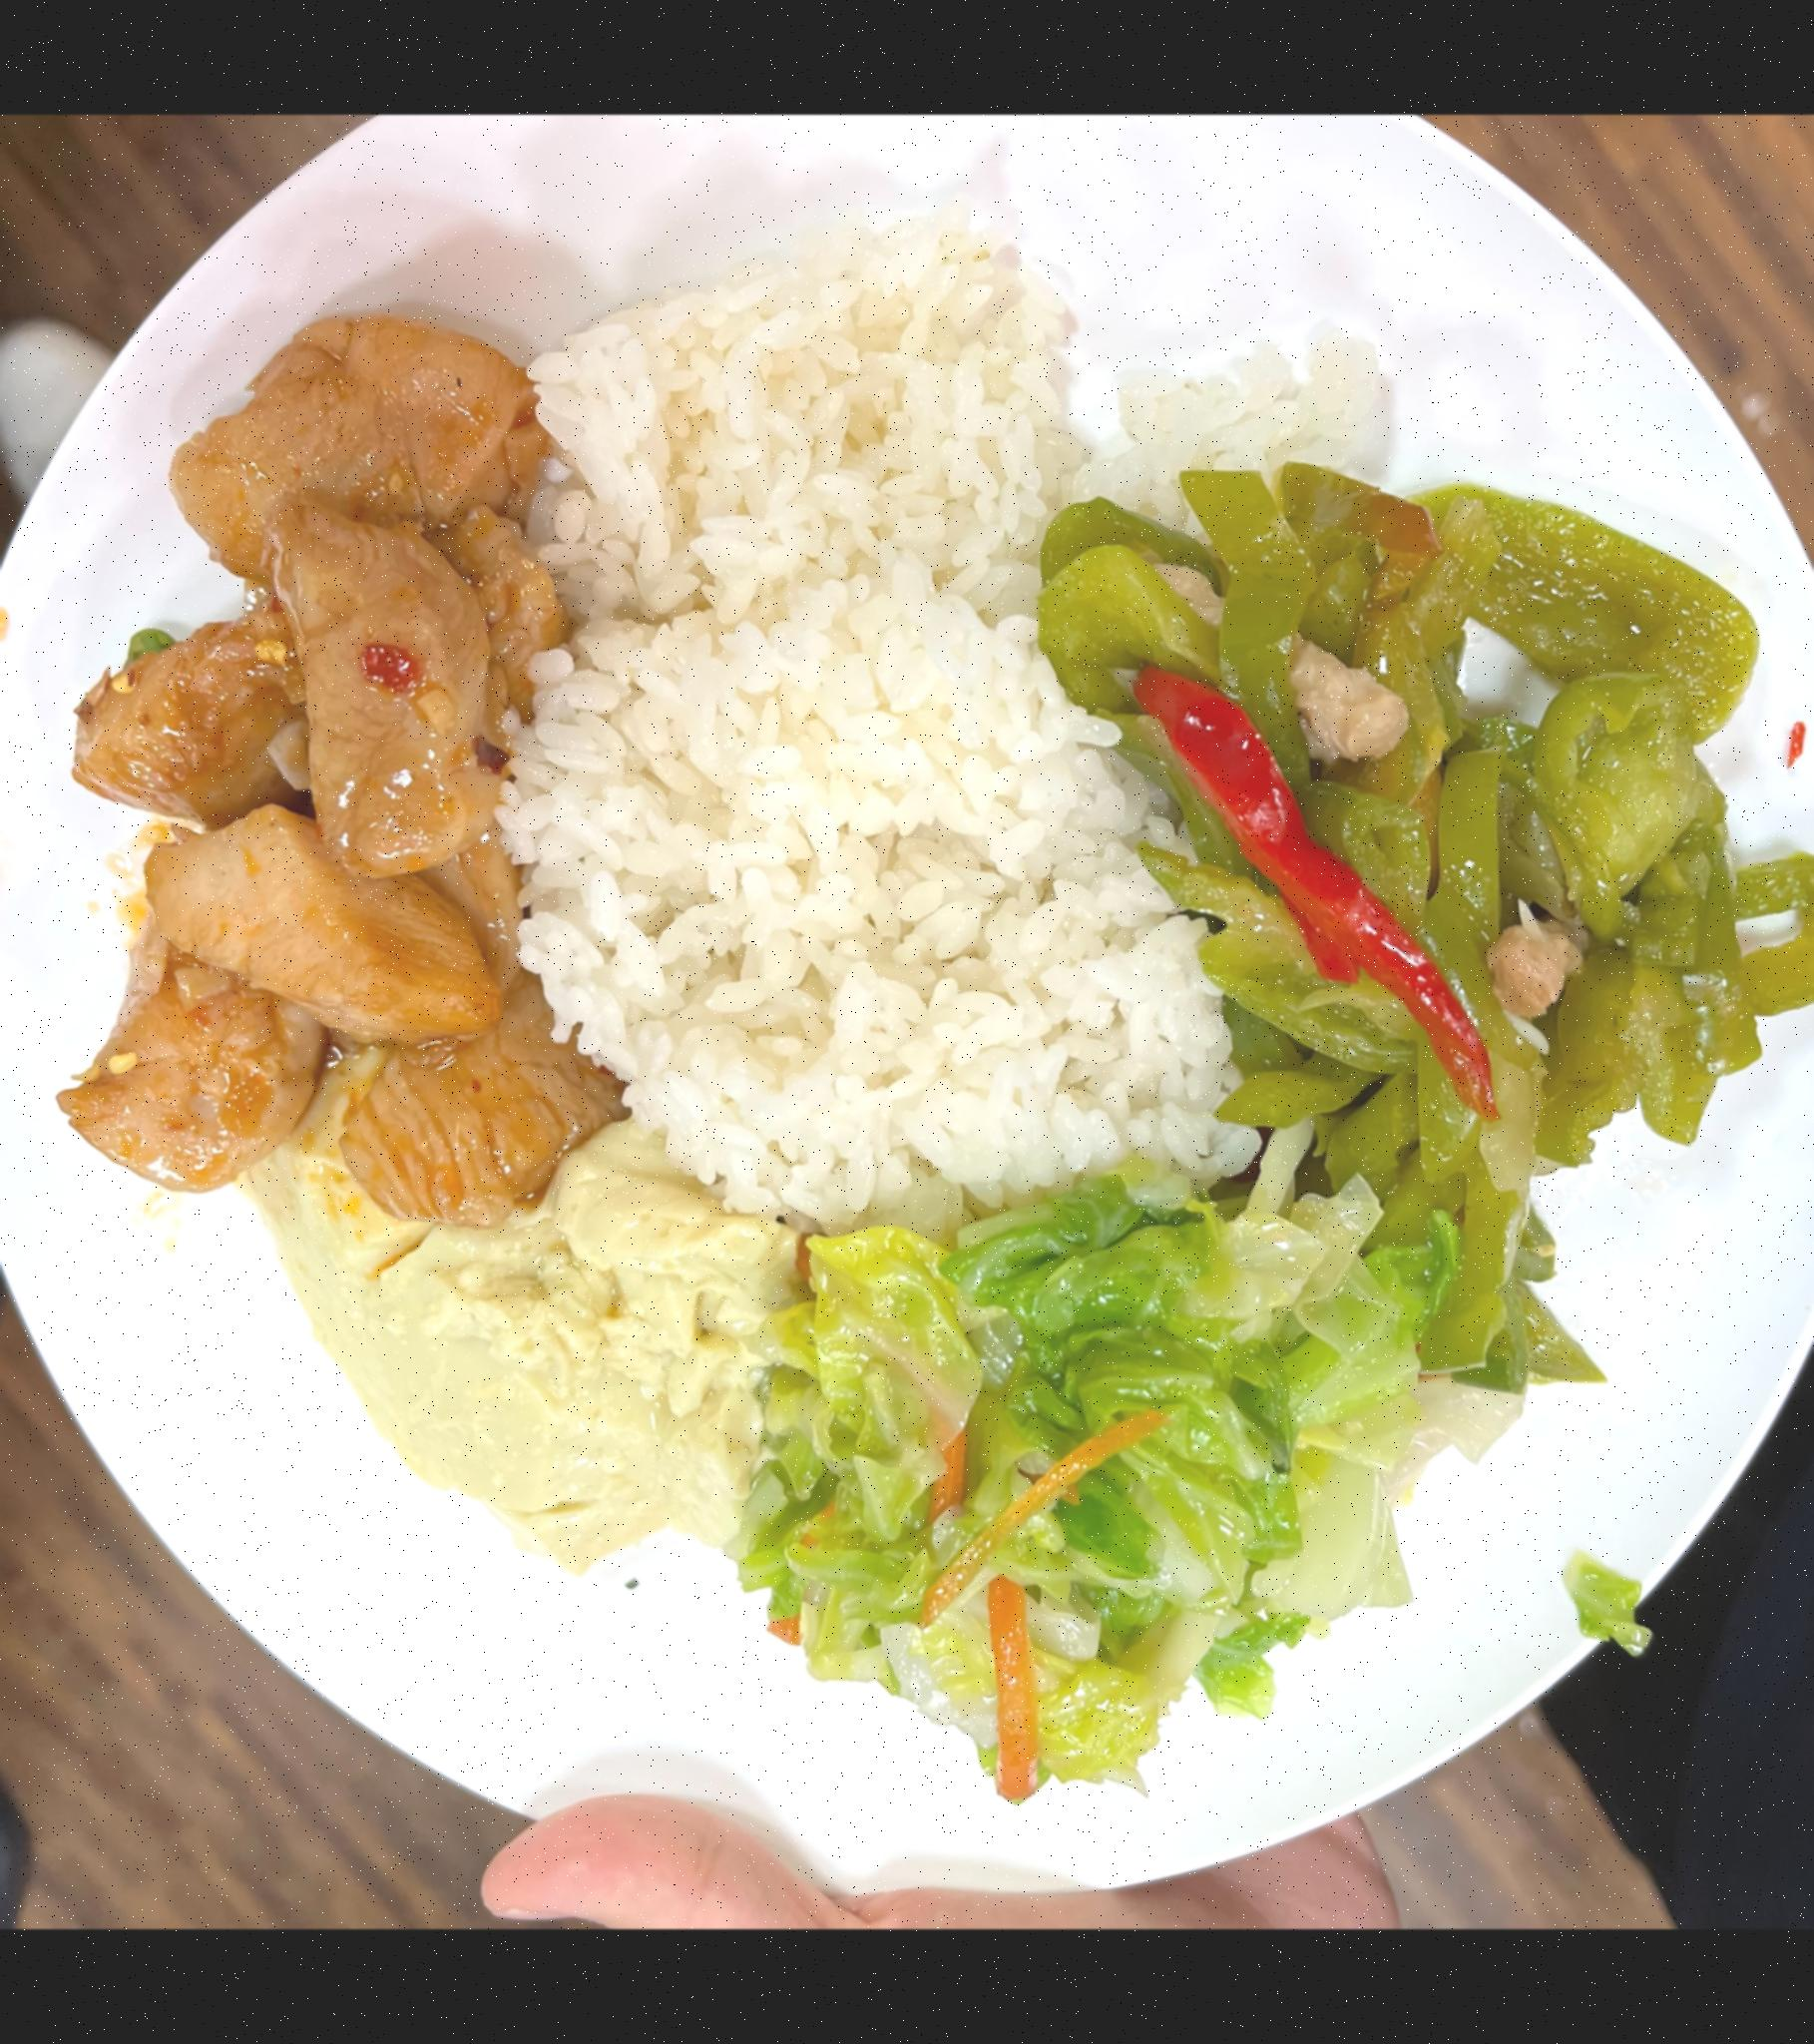plate: (0, 123, 1814, 1918)
side dish: (1091, 464, 1802, 1356), (755, 1191, 1446, 1760), (261, 1137, 781, 1592)
spicy chicken: (63, 312, 608, 1231)
white rice: (529, 226, 1201, 1207)
